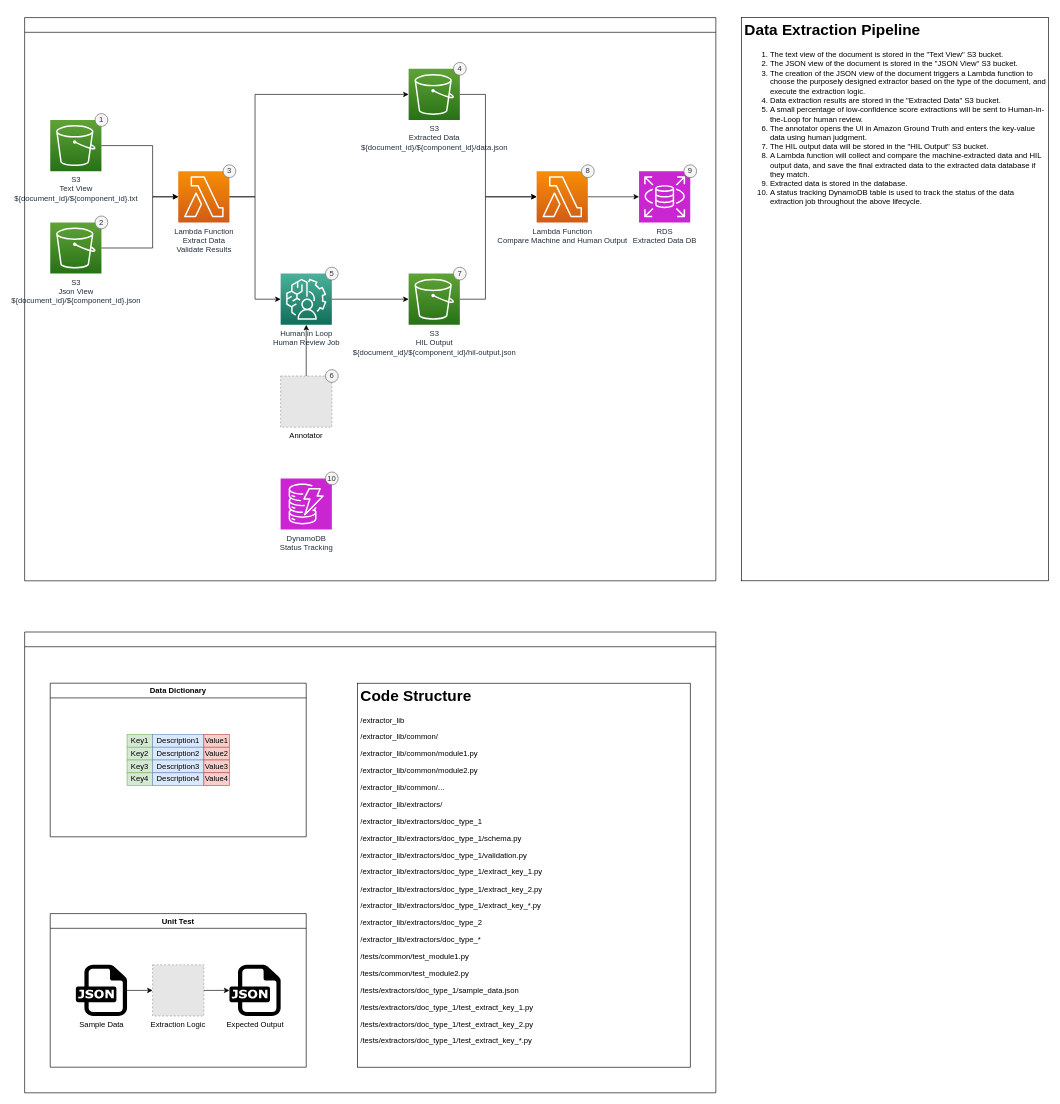
The diagram is 1060 pixels wide and 1104 high, and some of its shapes have lost their labels. Grey dashed boxes stand in for pictures. The centre of each missing label's shape, as x and y in pixels:
"Data Extraction Pipeline" belongs at point (370, 299).
"Extractor Python Library" belongs at point (370, 862).
